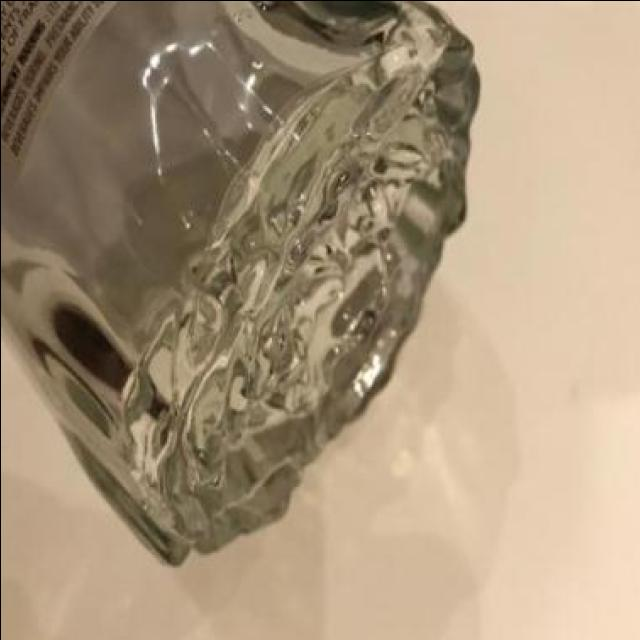kaca: (0, 1, 483, 570)
